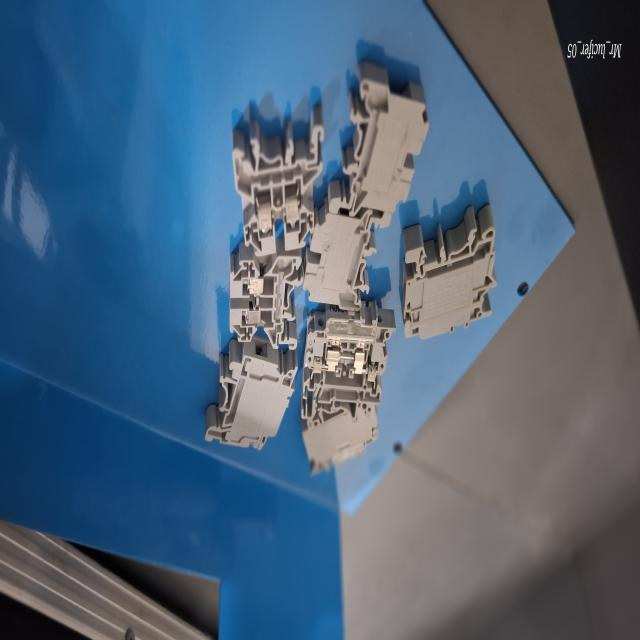Inverted: (327, 45, 430, 236), (298, 184, 380, 321)
Pass: (226, 101, 330, 272), (224, 239, 304, 355)
